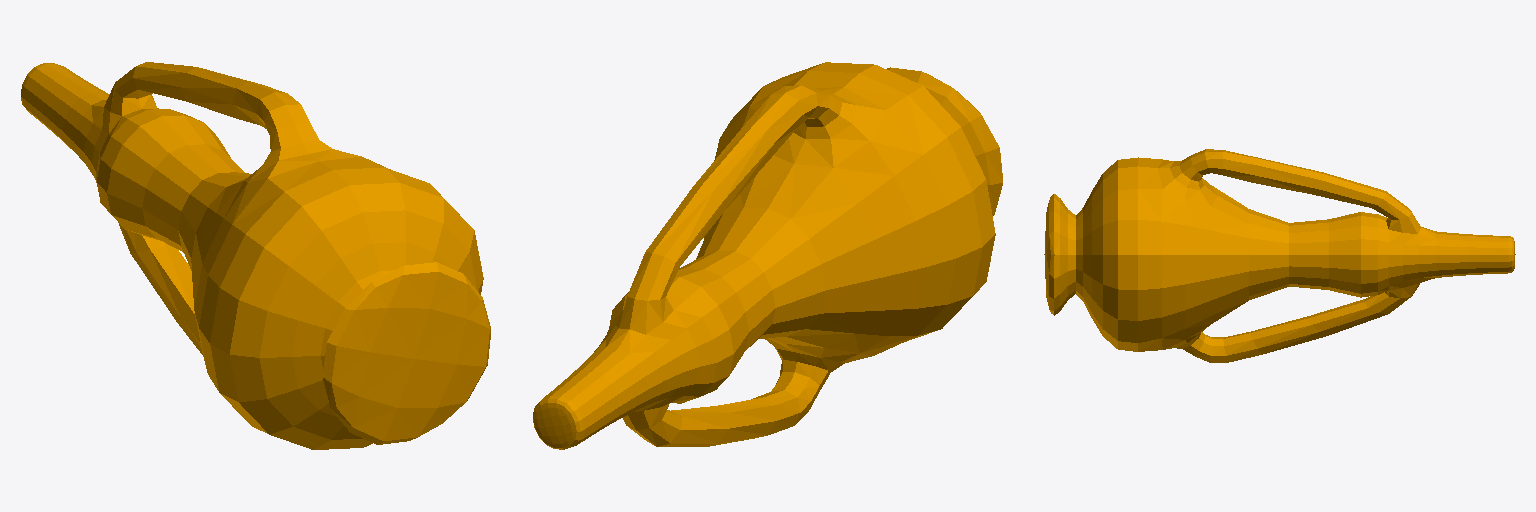
URDF robot description (0):
<?xml version="1.0" ?>
<robot name="0">
  <link name="body">
    <visual>
      <geometry>
        <mesh filename="../shapes/0.obj"/>
      </geometry>
    </visual>
    <collision>
      <geometry>
        <mesh filename="../shapes/0.obj"/>
      </geometry>
    </collision>
  </link>
</robot>

--- Facts derived from the render (not from the file) ---
3 views of the same robot in one strip: view 1: azimuth 30°, elevation 25°; view 2: azimuth 150°, elevation 25°; view 3: azimuth 270°, elevation 25° (orthographic).
Model 0 with 1 links and 0 joints (none), rooted at body, posed every joint at zero.
Links seen in each view (by area): view 1: body; view 2: body; view 3: body.
Boxes of the visible links, <box> form: body: <box>21,62,490,449</box>; body: <box>533,62,1002,449</box>; body: <box>1044,149,1515,362</box>.
Bounding box of the posed robot: 3.78 × 9.35 × 4.59 m (x, y, z).
Meshes: 1 distinct files referenced, 1 mesh visuals loaded (1 OBJ).